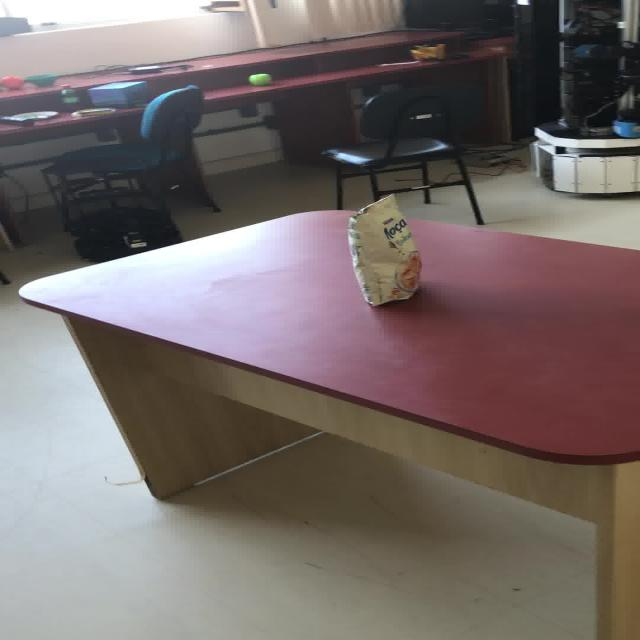corn flakes: (345, 192, 421, 306)
